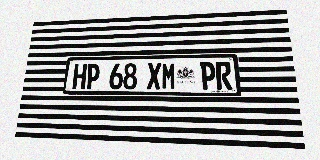6: (109, 63, 124, 89)
8: (123, 63, 138, 89)
H: (72, 64, 87, 89)
M: (161, 62, 176, 90)
P: (200, 62, 216, 90), (85, 64, 100, 89)
R: (215, 62, 232, 90)
X: (147, 63, 161, 90)
